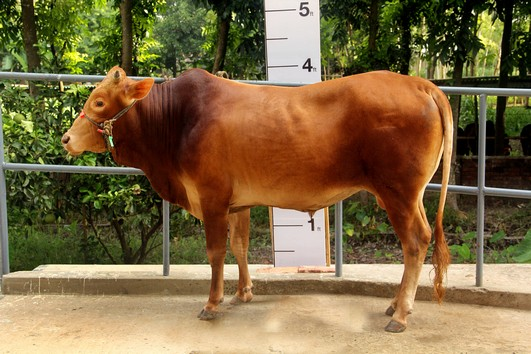cow: (57, 60, 460, 335)
